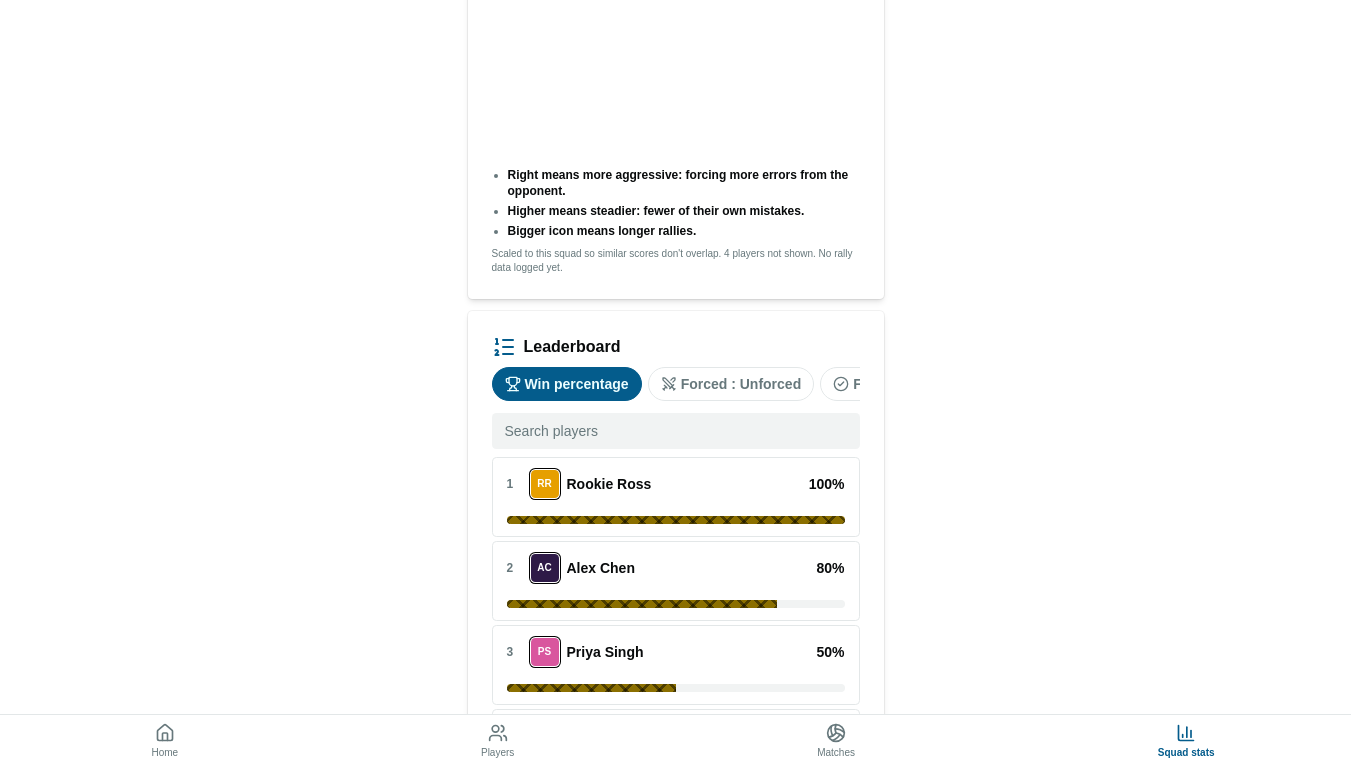
Test case: switching the leaderboard metric chip reorders the ranked rows
This screenshot has width=1366, height=768.
(page scrolled)
Expected: the heading "Leaderboard" is shown, 524,335 -> 620,359
Step 1. Click the button "Forced : Unforced" → [731, 384], box 648,367 -> 814,401
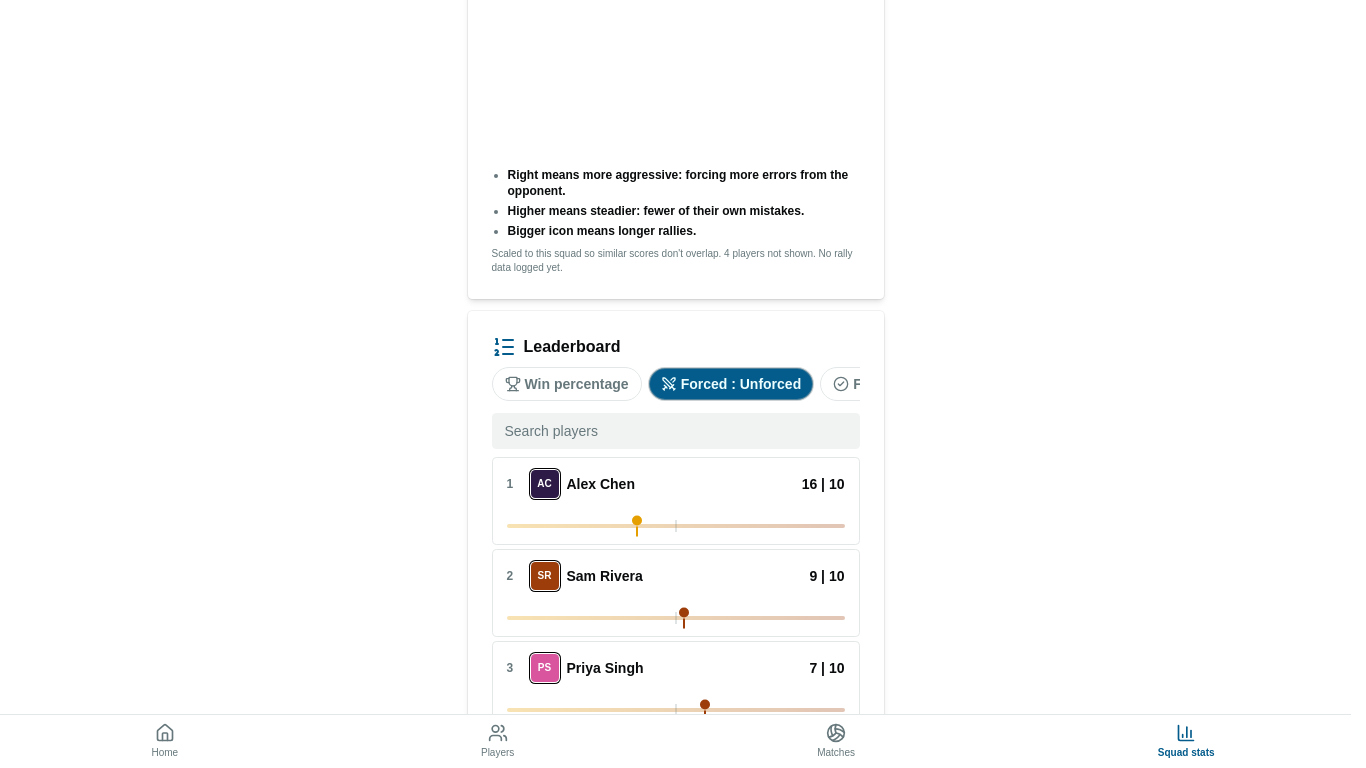
Now the text "16 | 10" is shown, box 802,474 -> 844,494
